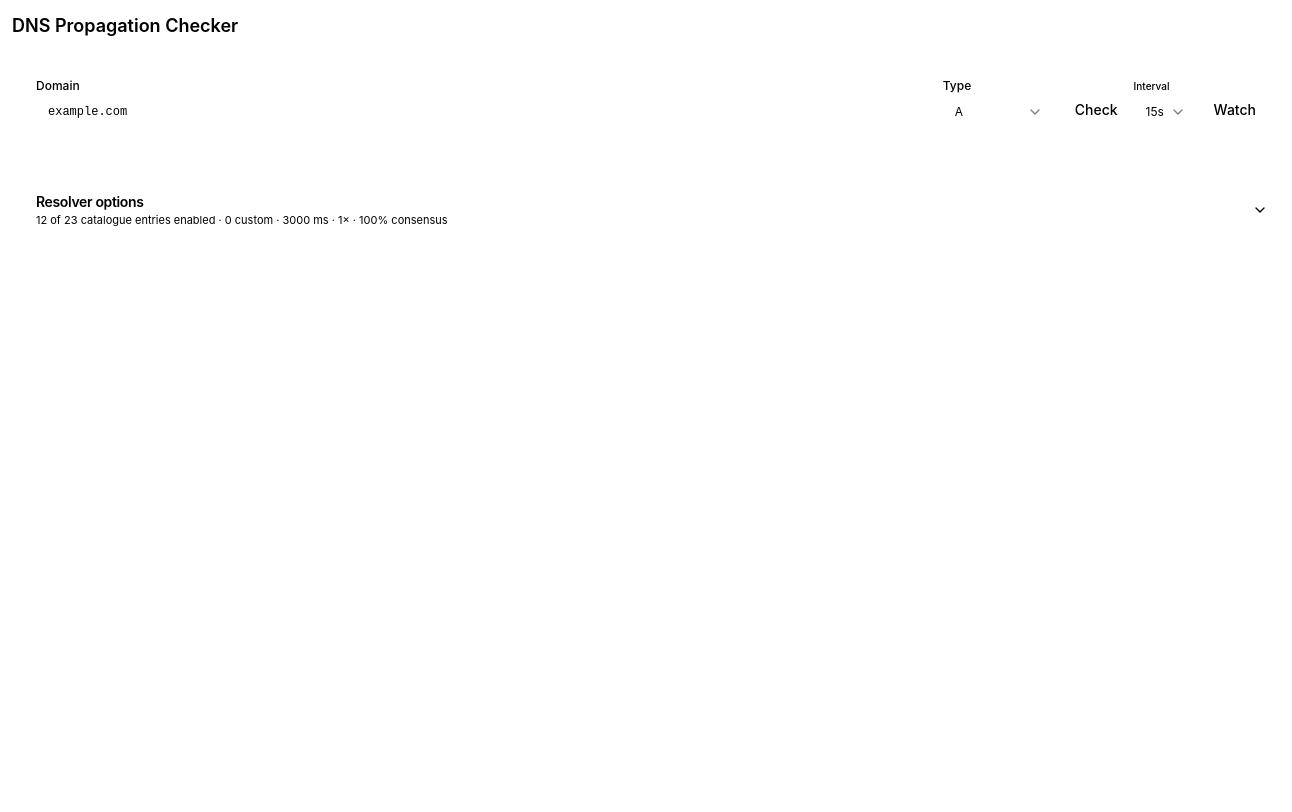
preserves valid rows from a partial provider response
The image size is (1292, 812).
What coordinates should you click on to do the following:
click the button "Check"
I would click on:
 (1096, 110)
Its box is x1=1063 y1=92 x2=1130 y2=128.
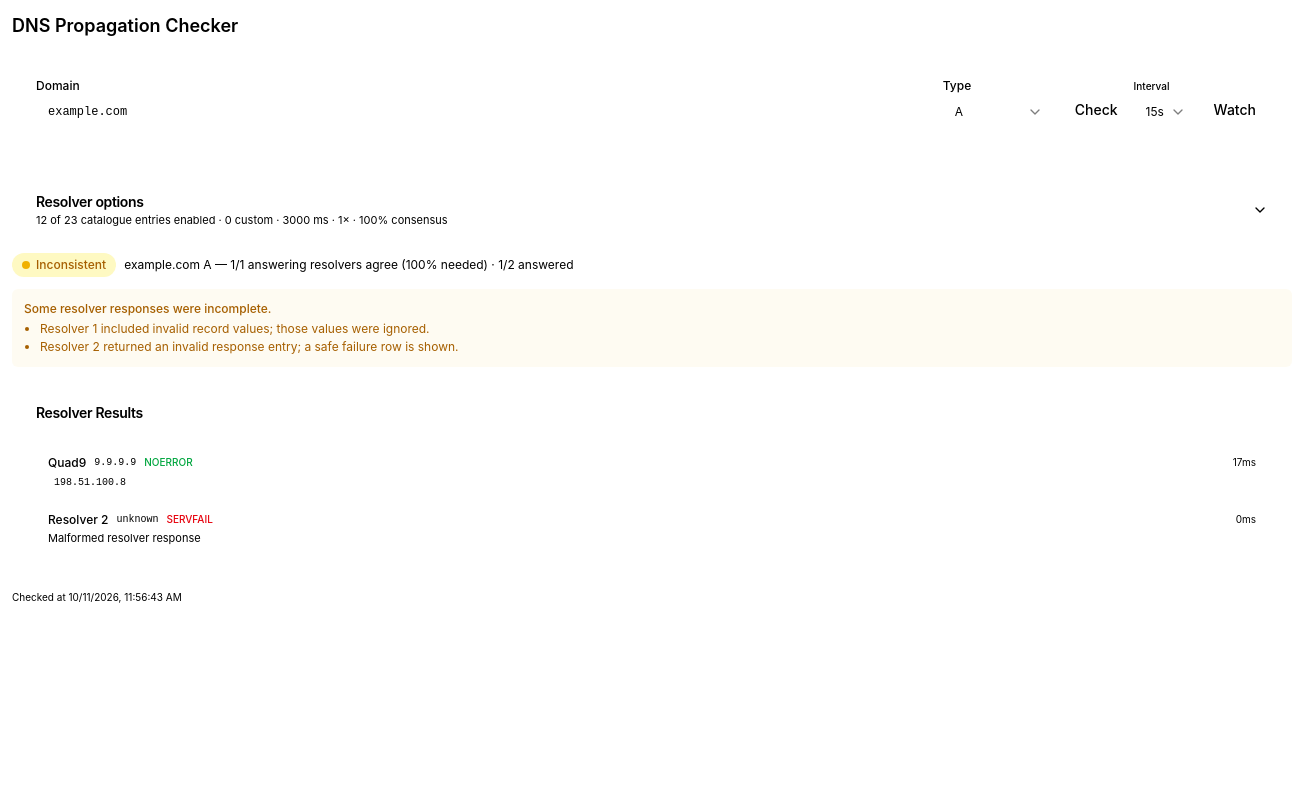
Expected: the text "198.51.100.8" is shown, x1=54 y1=476 x2=126 y2=488
Expected: the text "Malformed resolver response" is shown, x1=48 y1=530 x2=201 y2=544
Expected: the message with test id "propagation-response-warning" shows "invalid record values", x1=40 y1=320 x2=430 y2=336
